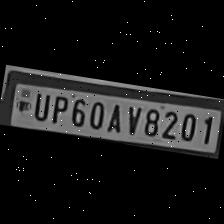0: (85, 96, 108, 131), (176, 110, 198, 142)
1: (196, 112, 216, 146)
2: (158, 106, 180, 142)
6: (67, 94, 89, 128)
8: (138, 104, 162, 138)
A: (104, 100, 126, 134)
P: (47, 92, 70, 125)
U: (29, 88, 52, 122)
V: (122, 102, 142, 136)
